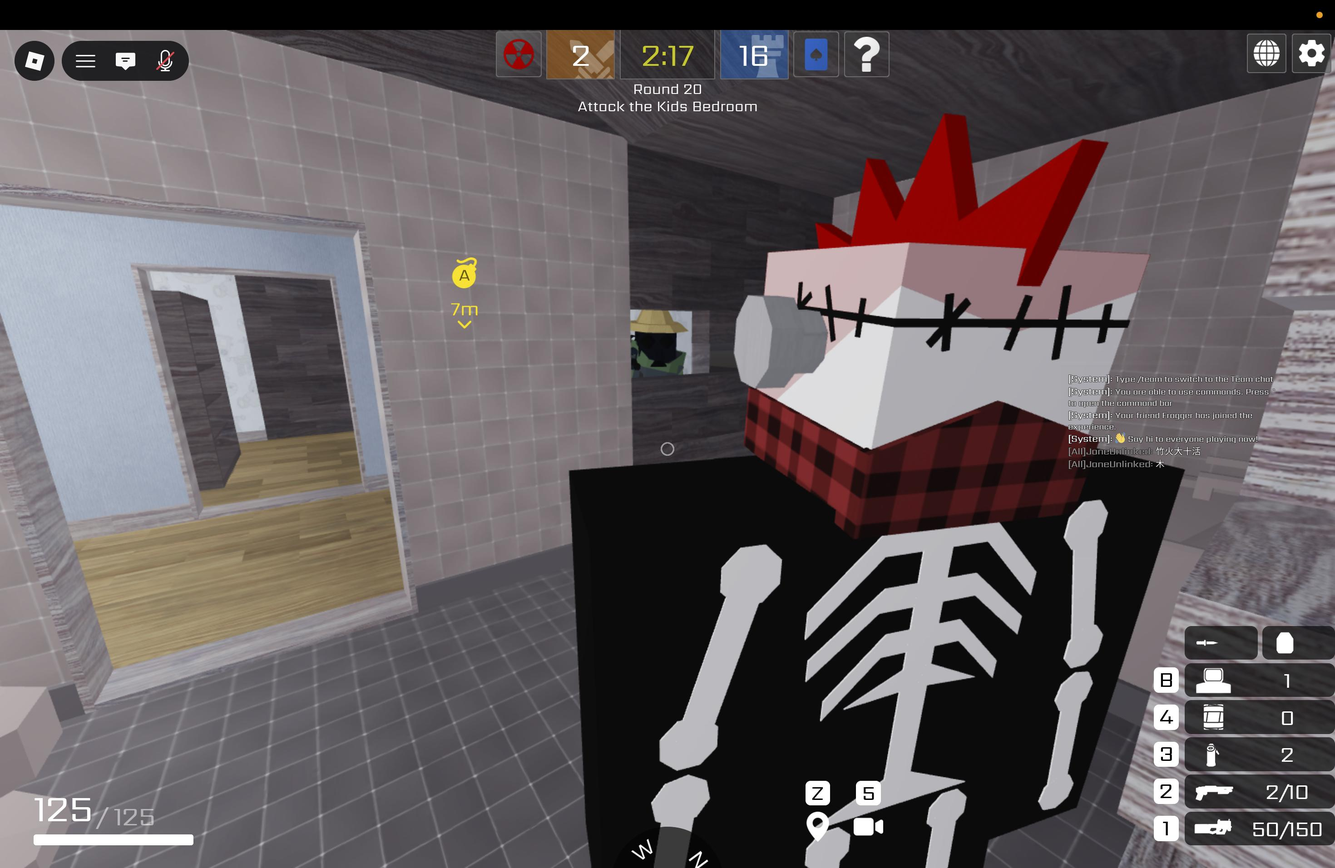enemy: (557, 148, 1183, 867), (628, 306, 686, 380)
